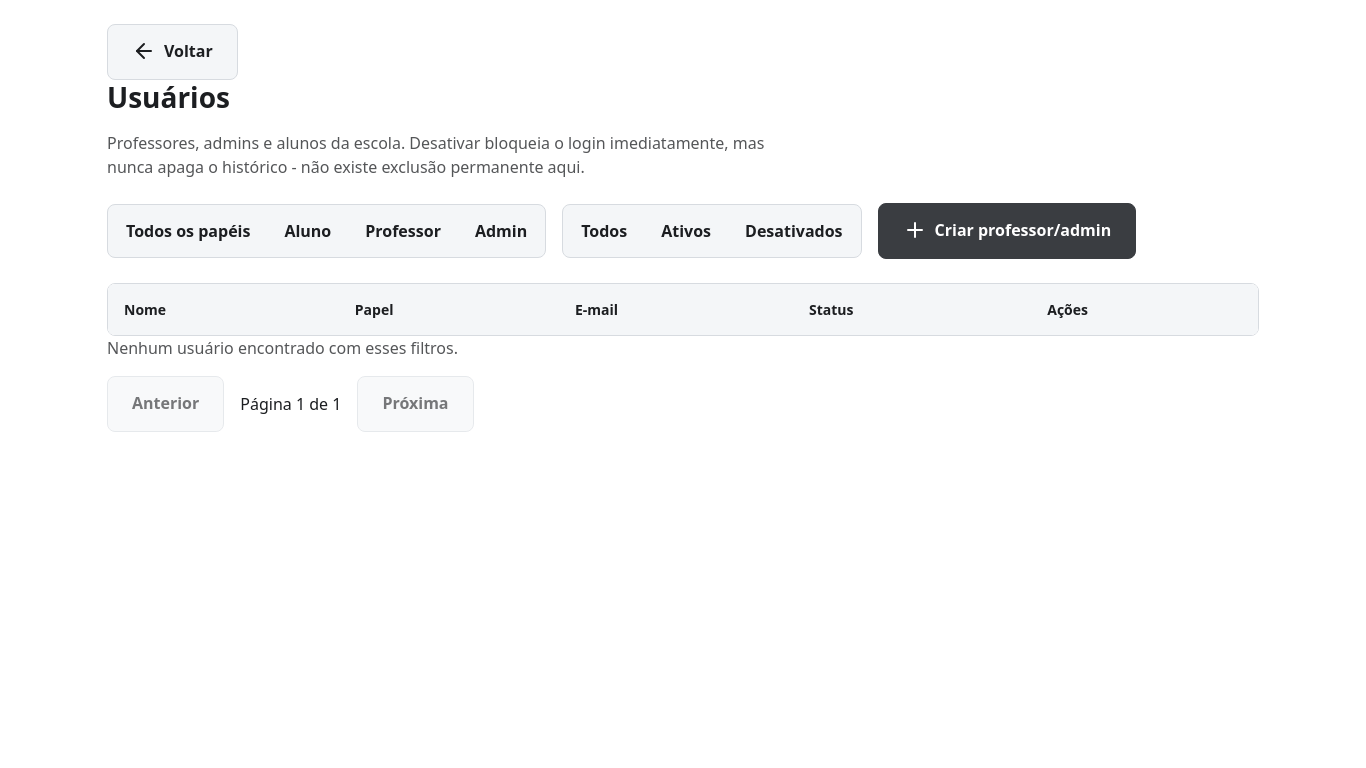
AdminUsers › the create form has no student credential field, only name/email/role
Expected: the text "Nenhum usuário encontrado com esses filtros." is shown, [107,337,458,359]
Step 1. Click the button "Criar professor/admin" → x=1007, y=231, box [878,203,1136,259]
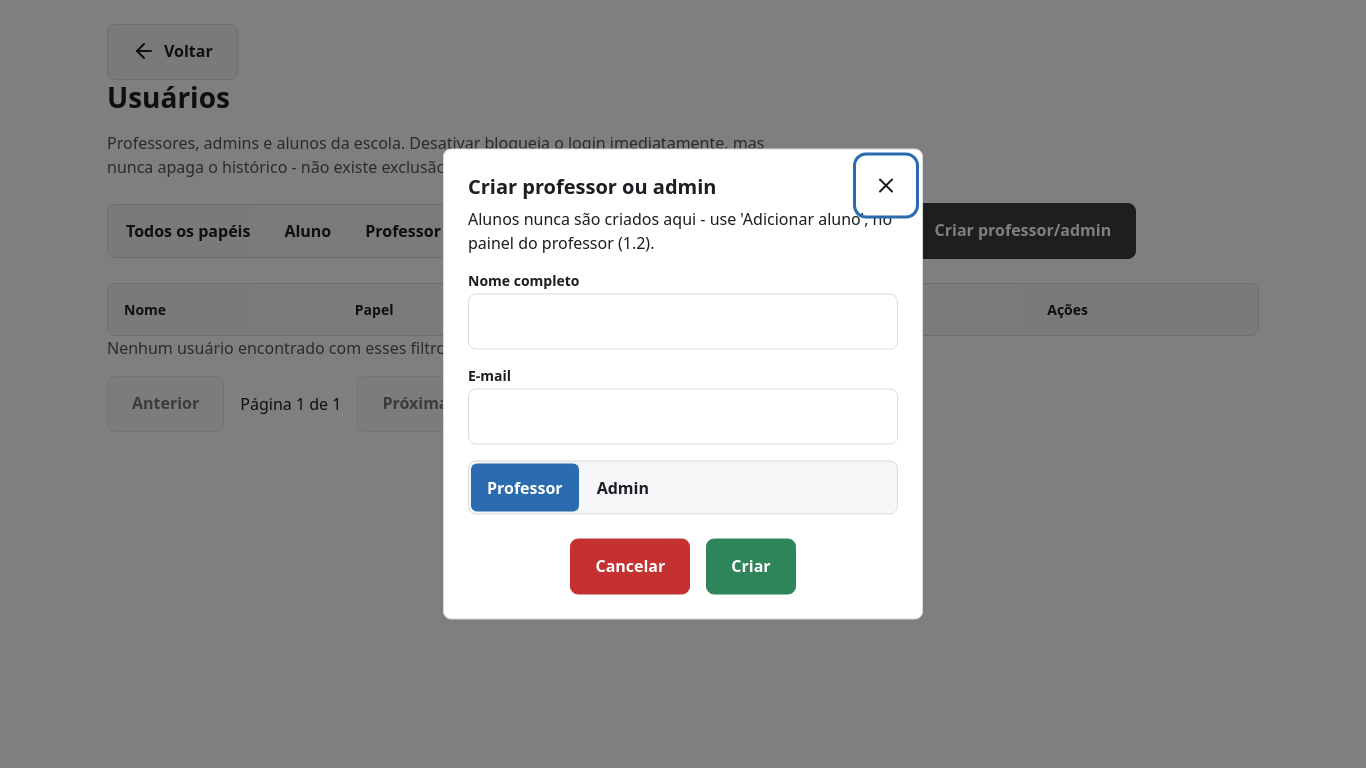
Expected: the field labelled "Nome completo" is shown, [468,294,898,350]
Expected: the field labelled "E-mail" is shown, [468,388,898,444]
